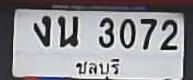0: (119, 18, 135, 48)
2: (160, 18, 176, 50)
3: (98, 17, 113, 47)
7: (140, 18, 156, 49)
A07: (33, 15, 50, 46)
A25: (57, 15, 77, 46)
CBI: (71, 55, 122, 80)
